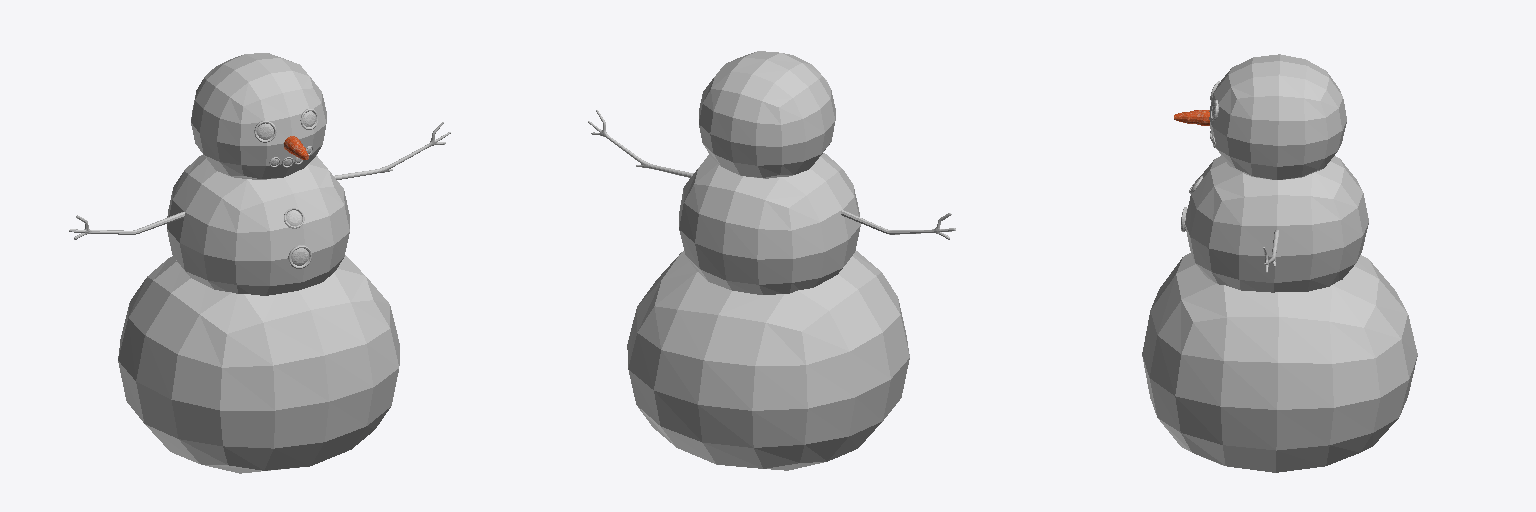
The picture shows the model from 3 angles: view 1: azimuth 30°, elevation 25°; view 2: azimuth 150°, elevation 25°; view 3: azimuth 270°, elevation 25°; orthographic projection.
Visible parts, largest first — view 1: Cube, Cube.001, Cube.002, Cube.005, Cube.006; view 2: Cube, Cube.001, Cube.002, Cube.005, Cube.006; view 3: Cube, Cube.001, Cube.002.
Boxes of the visible parts, <box> form: Cube: <box>118,255,399,473</box>; Cube.001: <box>167,155,349,295</box>; Cube.002: <box>191,53,326,179</box>; Cube.005: <box>69,212,184,239</box>; Cube.006: <box>334,122,450,179</box>; Cube: <box>627,251,909,470</box>; Cube.001: <box>679,153,860,294</box>; Cube.002: <box>699,51,835,178</box>; Cube.005: <box>841,210,955,239</box>; Cube.006: <box>588,110,693,177</box>; Cube: <box>1142,253,1417,472</box>; Cube.001: <box>1185,156,1368,292</box>; Cube.002: <box>1209,54,1346,179</box>.
Bounding box in the file's own units: 2.55 × 2.55 × 1.63.
4 materials, 1 textured.